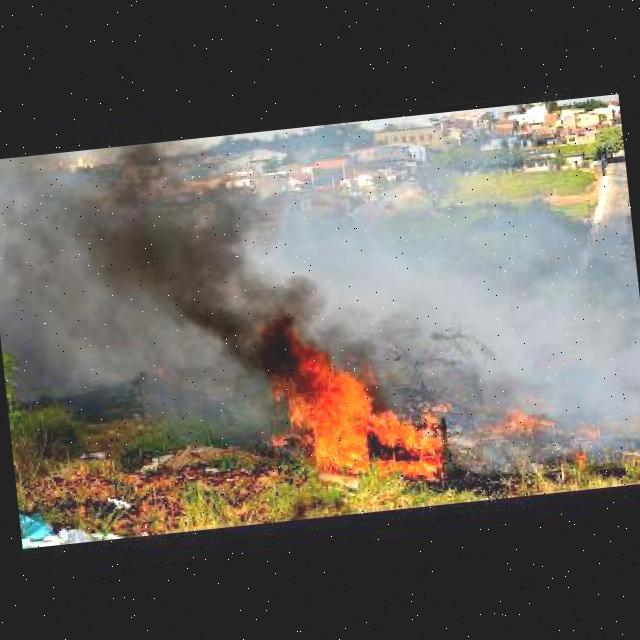Fire: (257, 327, 461, 494), (484, 398, 561, 440), (427, 390, 459, 415), (569, 447, 589, 469), (573, 425, 606, 438)
Smoke: (79, 126, 320, 415)
